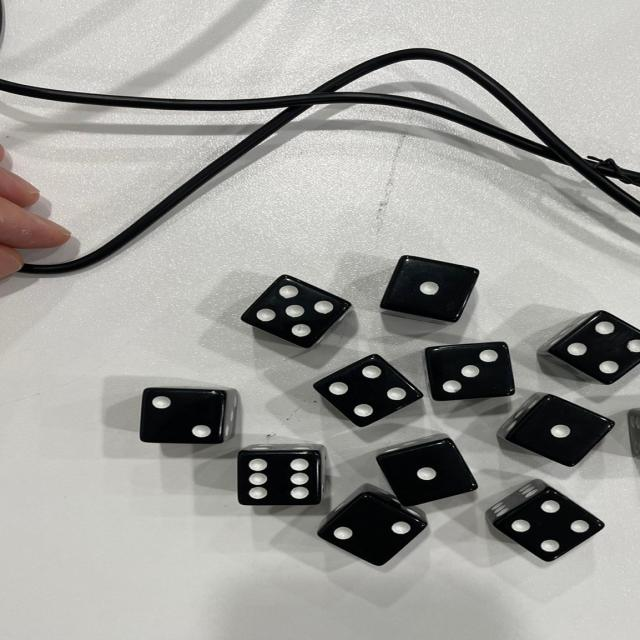DICE1: (500, 387, 618, 453), (397, 255, 483, 305), (394, 450, 481, 490)
DICE2: (305, 504, 427, 566), (132, 387, 242, 444)
DICE3: (428, 337, 518, 402)
DICE4: (458, 490, 616, 560), (555, 284, 640, 394), (305, 349, 423, 422)
DICE5: (225, 268, 367, 349)
DICE6: (241, 440, 336, 520)
